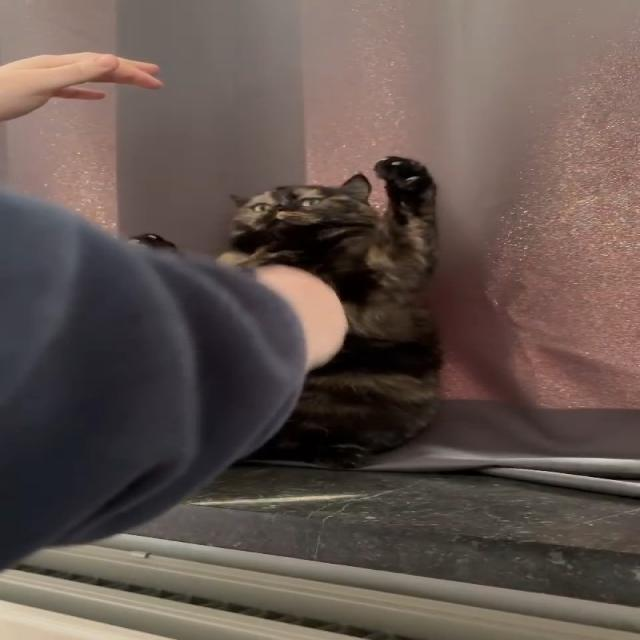authorized: (216, 156, 444, 470)
